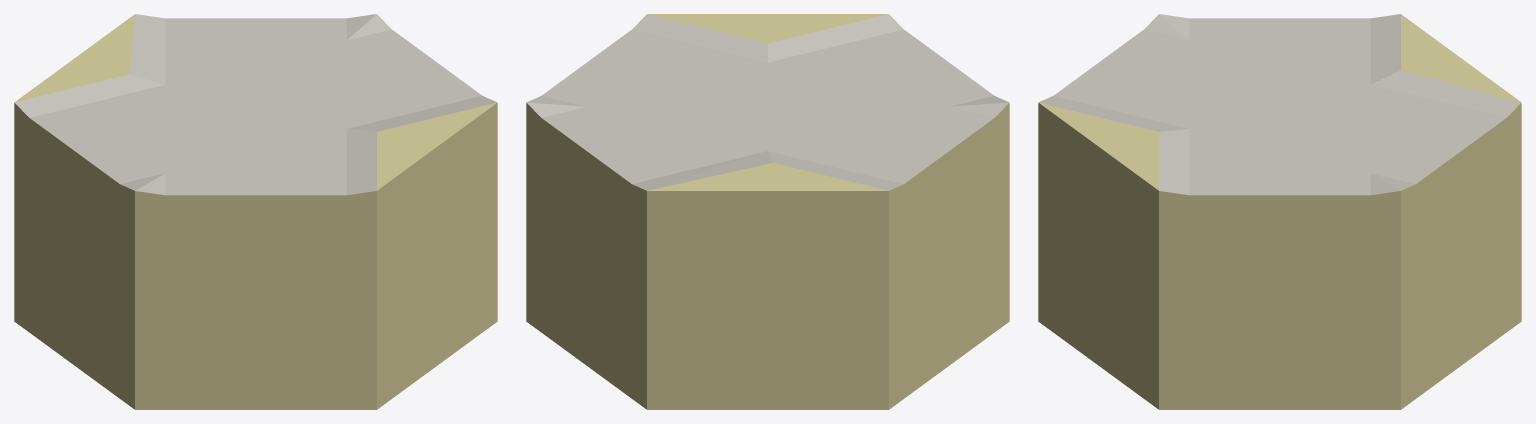
The model's file is sand_road6.fbx.
The picture shows the model from 3 angles, left to right: view 1: azimuth 30°, elevation 25°; view 2: azimuth 150°, elevation 25°; view 3: azimuth 270°, elevation 25°; orthographic projection.
Parts seen in each view (by area): view 1: Cylinder; view 2: Cylinder; view 3: Cylinder.
Part boxes in pixels (left/top/right/bottom): Cylinder: left=14, top=14, right=497, bottom=409; Cylinder: left=526, top=14, right=1009, bottom=409; Cylinder: left=1038, top=14, right=1521, bottom=409.
Size of the model in its own units: 1.73 by 1 by 2.
